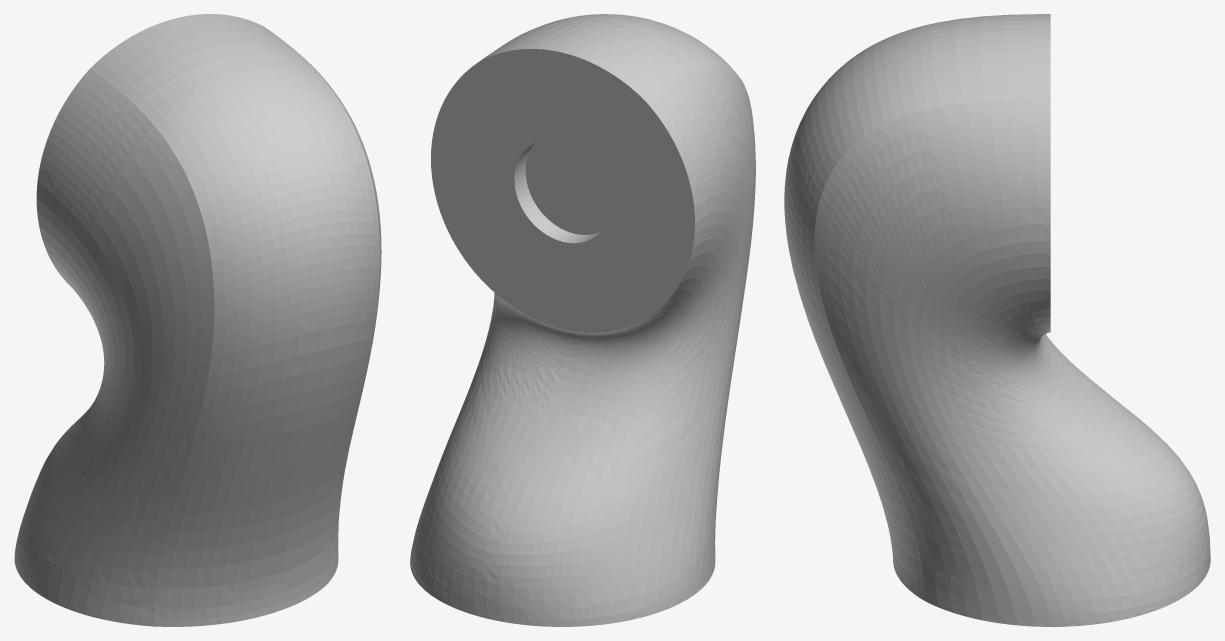
The picture shows the model from 3 angles, left to right: view 1: azimuth 30°, elevation 25°; view 2: azimuth 150°, elevation 25°; view 3: azimuth 270°, elevation 25°; orthographic projection. The views are drawn at different scales.
Visible parts, largest first — view 1: Link 1; view 2: Link 1; view 3: Link 1.
Part boxes in pixels (<box>): Link 1: <box>14,14,381,626</box>; Link 1: <box>410,14,755,626</box>; Link 1: <box>784,14,1210,626</box>.
Bounding box in the file's own units: 0.136 × 0.1826 × 0.261.
1 material, 1 textured.
